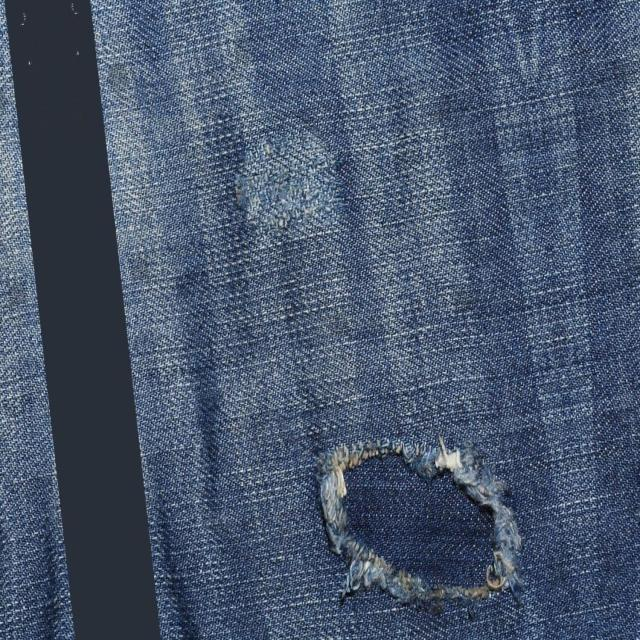cut: (332, 434, 516, 599)
